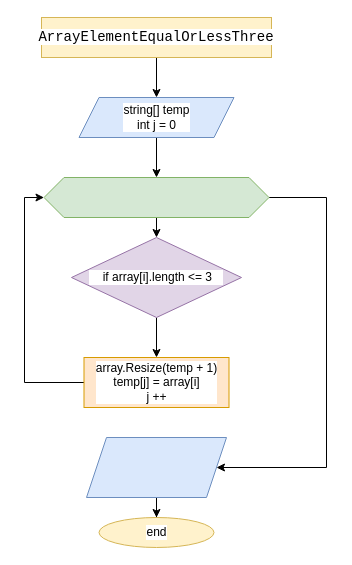
The diagram is 352 pixels wide and 565 high, and some of its shapes have lost their labels. Each missing label, with the box of its shape:
for i = 0 , i < array.lenght , i++: (43, 176, 269, 218)
write (temp): (86, 436, 226, 498)
